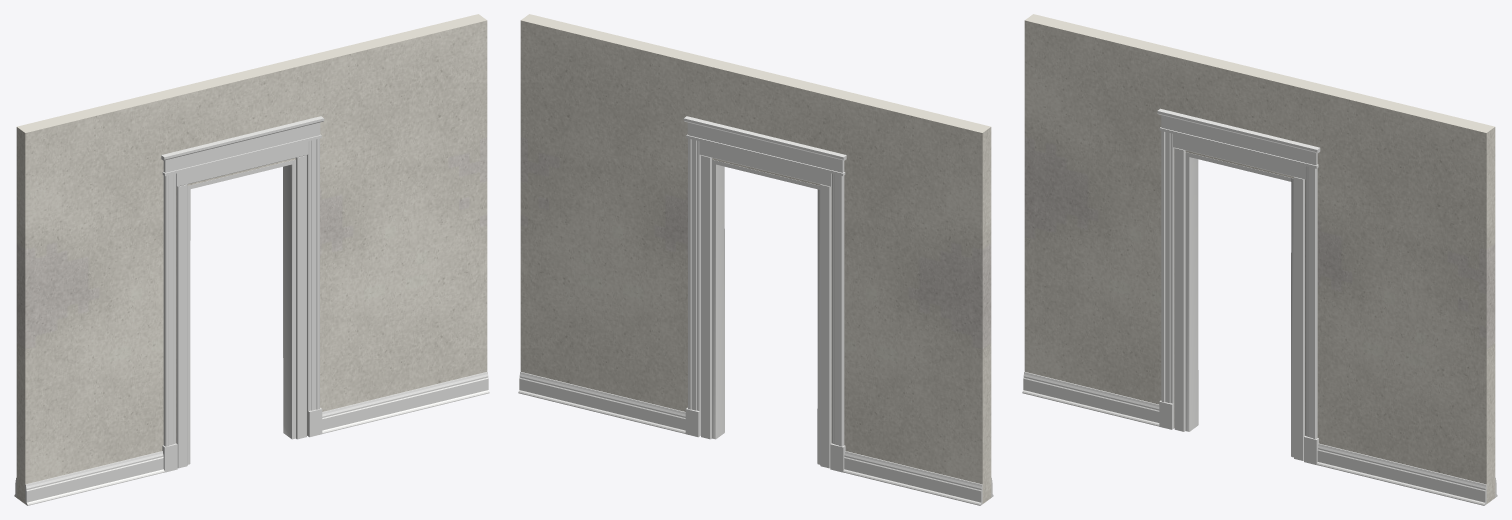
The model's file is rw_bed.glb.
3 renders of one model, left to right at view 1: azimuth 30°, elevation 25°; view 2: azimuth 150°, elevation 25°; view 3: azimuth 330°, elevation 25°, orthographic.
Visible parts, largest first — view 1: rw_bed_plaster, molduras, rw_bed_frame; view 2: rw_bed_plaster, molduras, rw_bed_frame; view 3: rw_bed_plaster, molduras, rw_bed_frame.
Boxes of the visible parts, x1,y1,x2,y2 form: rw_bed_plaster: [16, 14, 487, 503]; molduras: [14, 116, 489, 505]; rw_bed_frame: [176, 141, 308, 468]; rw_bed_plaster: [520, 14, 991, 503]; molduras: [518, 116, 993, 505]; rw_bed_frame: [699, 141, 831, 468]; rw_bed_plaster: [1024, 14, 1495, 503]; molduras: [1022, 108, 1497, 505]; rw_bed_frame: [1173, 134, 1305, 460].
Bounding box in the file's own units: 3.64 × 2.8 × 0.204.
3 materials, 1 textured.
